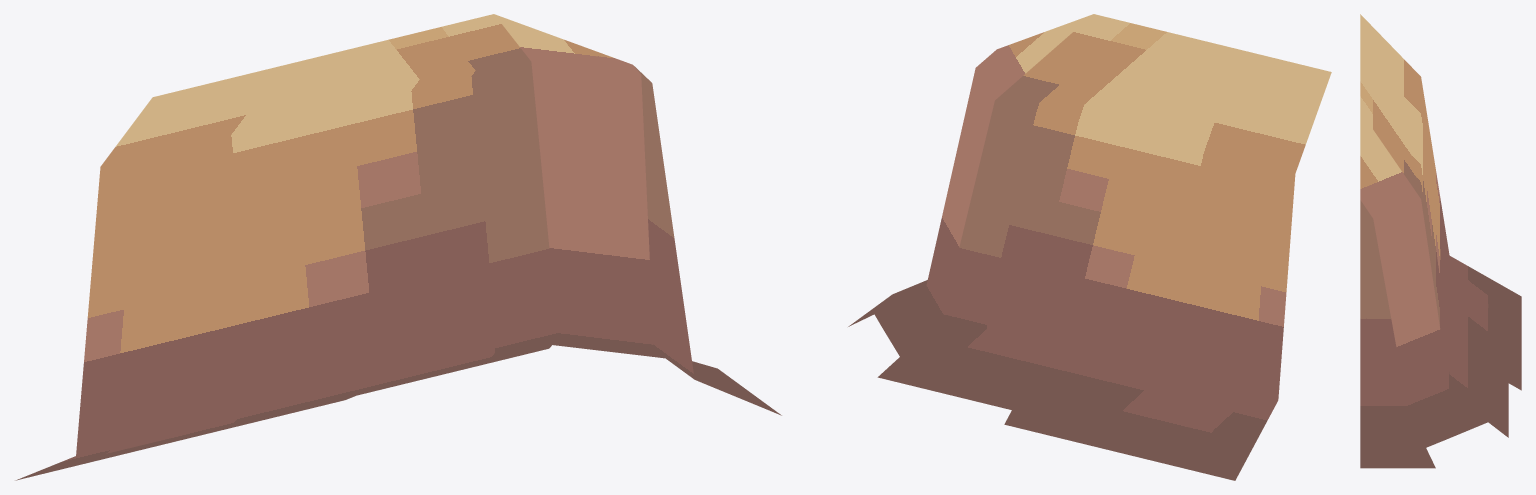
3 renders of one model, left to right at view 1: azimuth 30°, elevation 25°; view 2: azimuth 150°, elevation 25°; view 3: azimuth 270°, elevation 25°, orthographic. The views are drawn at different scales.
Bounding box in the file's own units: 0.793 × 0.5662 × 0.293.
Materials: 1 (1 with a texture image).
